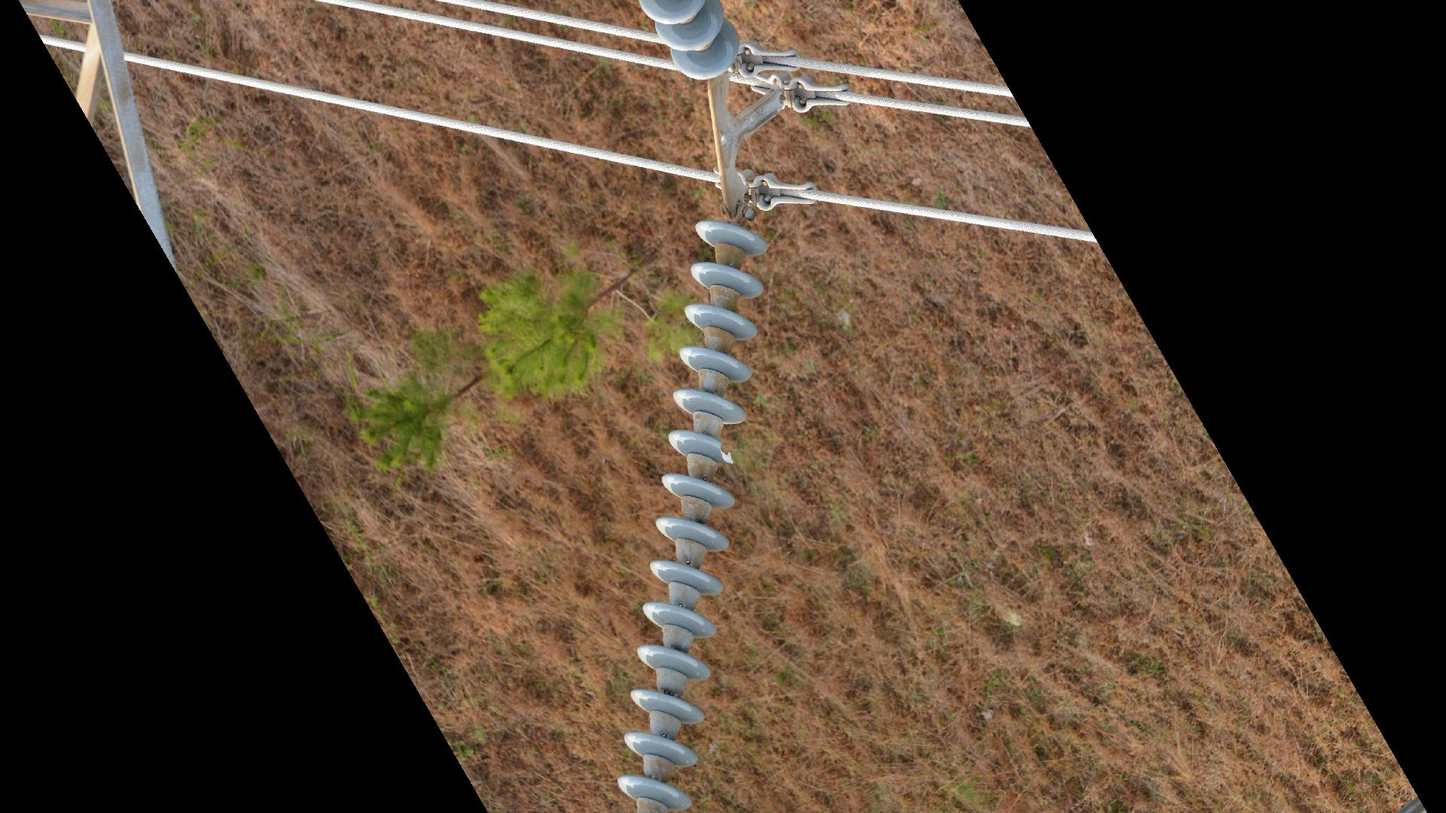insulator: (608, 214, 775, 813), (634, 1, 746, 90)
insulator_breakage: (700, 434, 741, 471)
